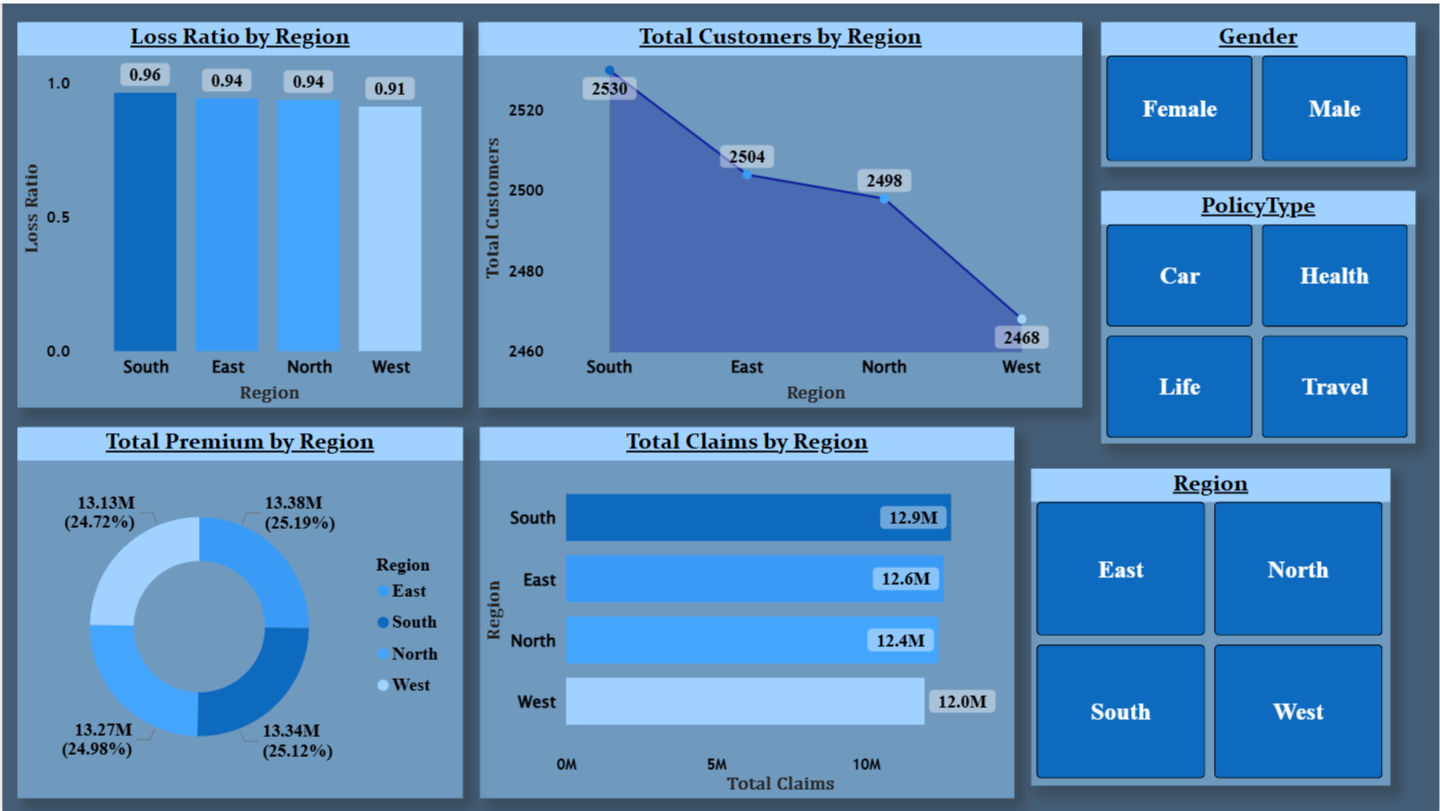

This screenshot's page, from the dashboard's own definition file:
{"tool":"powerbi","page":{"name":" Page 3","canvas":[1280,720],"ordinal":3},"visuals":[{"type":"areaChart","title":"Total Customers by Region","fields":{"Category":["Insurance.Region"],"Y":["Insurance.Total Customers"]},"box":[424,16.5,537.9,343.1],"z":0},{"type":"lineStackedColumnComboChart","title":"Loss Ratio by Region","fields":{"Category":["Insurance.Region"],"Y":["Insurance.Loss Ratio"]},"box":[13.7,16.5,396.6,343.1],"z":1000},{"type":"advancedSlicerVisual","fields":{"Values":["Insurance.Region"]},"box":[916.6,414.4,319.7,282.7],"z":2000},{"type":"advancedSlicerVisual","fields":{"Values":["Insurance.Gender"]},"box":[978.4,16.5,279.9,129],"z":3000},{"type":"advancedSlicerVisual","fields":{"Values":["Insurance.PolicyType"]},"box":[978.4,167.4,279.9,225],"z":4000},{"type":"clusteredBarChart","title":"Total Claims by Region","fields":{"Category":["Insurance.Region"],"Y":["Insurance.Total Claims"]},"box":[425.4,377.4,476.2,330.7],"z":5000},{"type":"donutChart","title":"Total Premium by Region","fields":{"Category":["Insurance.Region"],"Y":["Insurance.Total Premium"]},"box":[13.7,377.4,396.6,330.7],"z":6000}]}

Visuals, with their boxes in screenshot pixels (x1, y1, x2, y2), scaled from the page's 1280x720 canvas onto the 1440x811 screenshot:
"Total Customers by Region" areaChart: pyautogui.locateOnScreen(477, 19, 1082, 405)
"Loss Ratio by Region" lineStackedColumnComboChart: pyautogui.locateOnScreen(15, 19, 462, 405)
advancedSlicerVisual - Insurance.Region: pyautogui.locateOnScreen(1031, 467, 1391, 785)
advancedSlicerVisual - Insurance.Gender: pyautogui.locateOnScreen(1101, 19, 1416, 164)
advancedSlicerVisual - Insurance.PolicyType: pyautogui.locateOnScreen(1101, 189, 1416, 442)
"Total Claims by Region" clusteredBarChart: pyautogui.locateOnScreen(479, 425, 1014, 798)
"Total Premium by Region" donutChart: pyautogui.locateOnScreen(15, 425, 462, 798)
